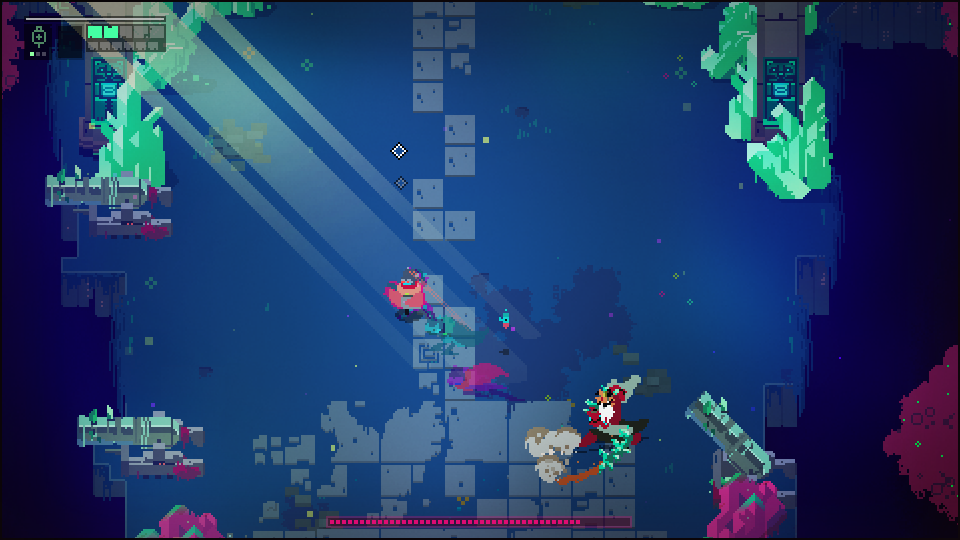hanged_man: (557, 376, 645, 479)
player: (387, 277, 431, 318)
